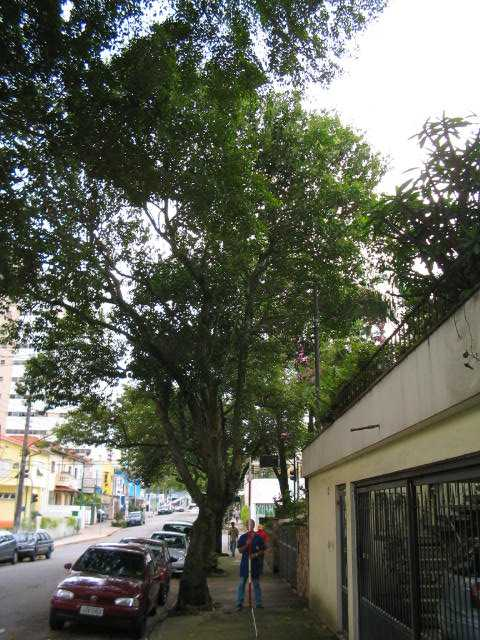crown: (5, 91, 392, 423)
stem: (172, 507, 229, 610)
stick: (243, 456, 257, 607)
tree: (2, 88, 394, 610)
